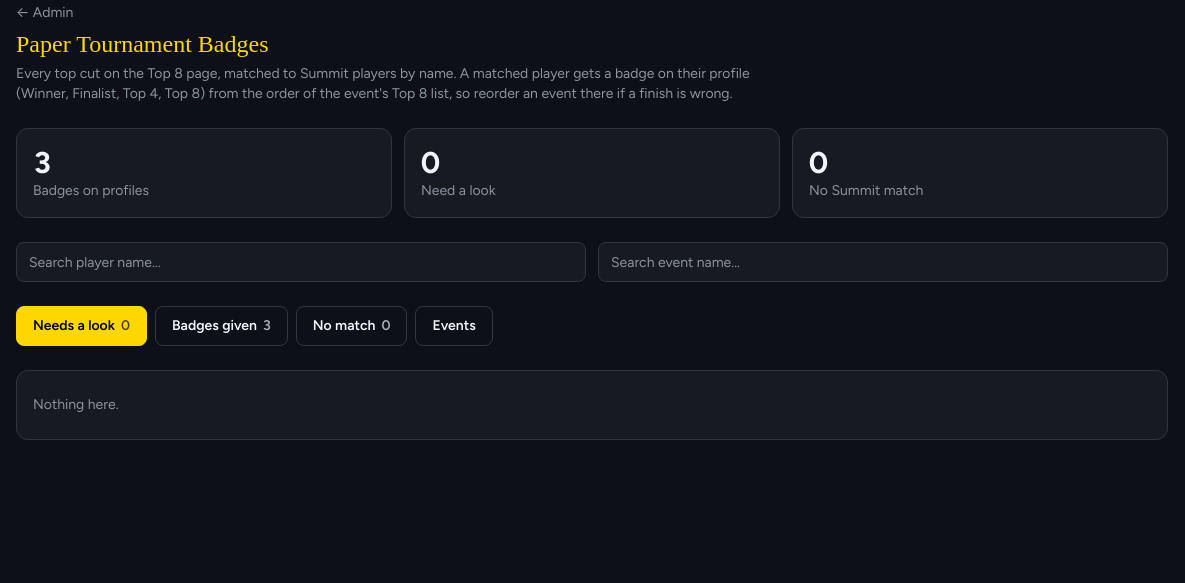
PaperBadges search › filters results by player name and by event name
Click the tab "Badges given3" at [221, 326], box x1=155 y1=306 x2=288 y2=346
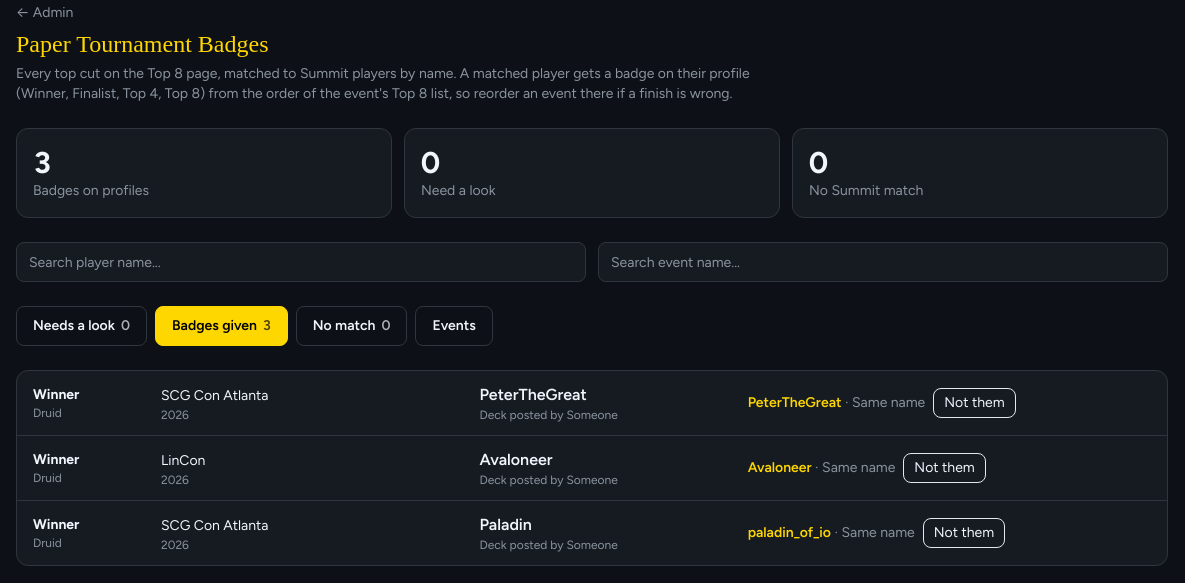
Now the number of links "SCG Con Atlanta" is 2, box x1=161 y1=387 x2=268 y2=404; x1=161 y1=517 x2=268 y2=534
Type "paladin" into the search field labelled "Search player name" at [301, 262], box x1=16 y1=242 x2=586 y2=282
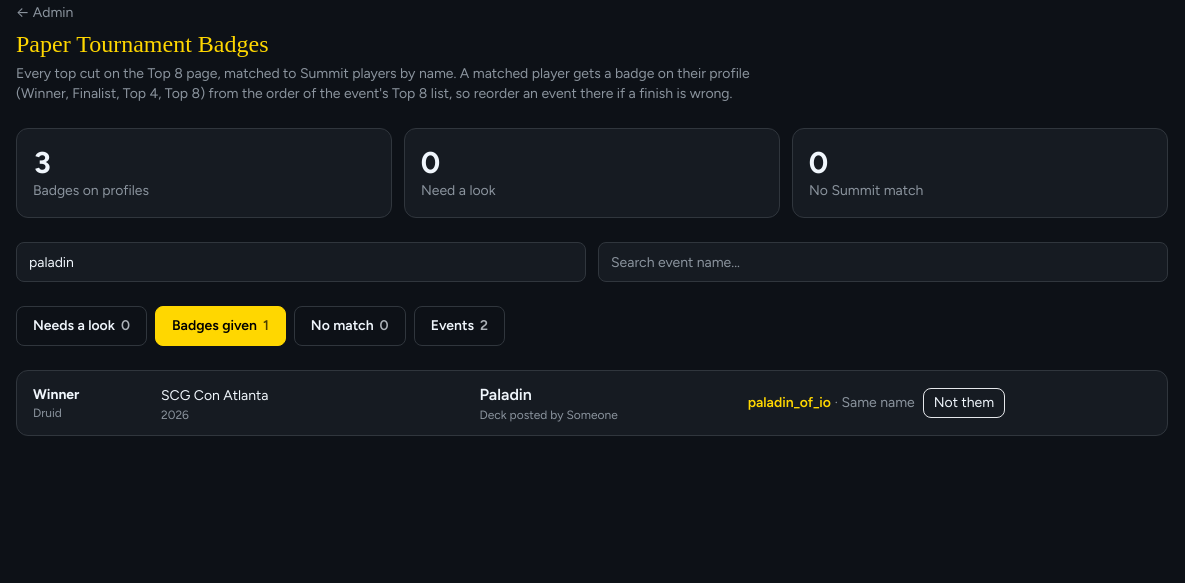
Now the link "paladin_of_io" is shown, box x1=748 y1=394 x2=831 y2=411
Now the text "PeterTheGreat" is gone
Clear the search field named "Search player name" at [301, 262], box x1=16 y1=242 x2=586 y2=282
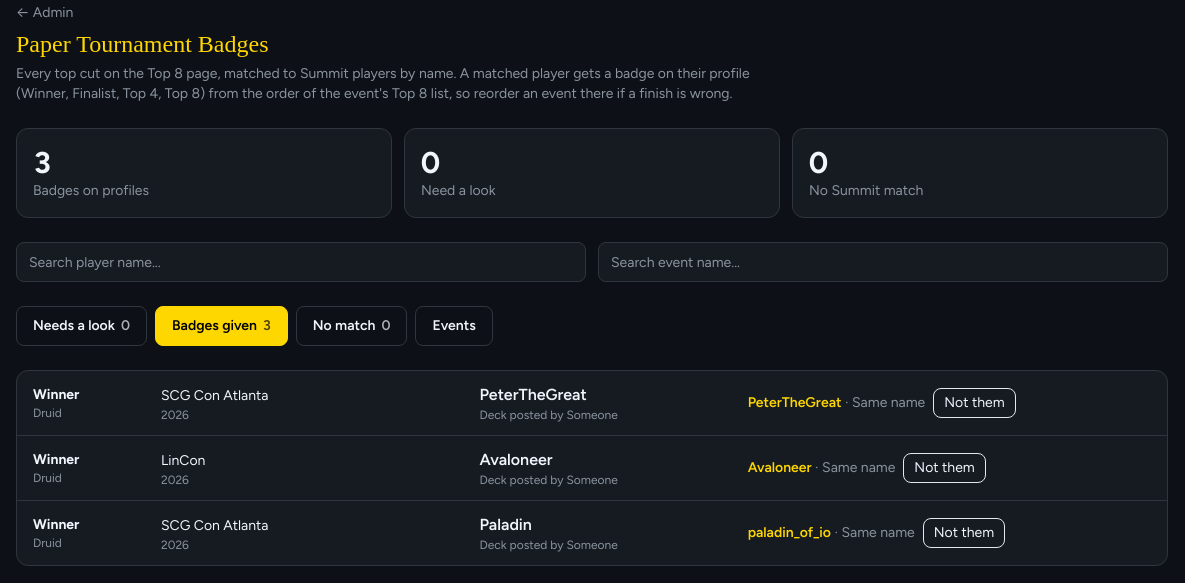
Type "lincon" into the search field labelled "Search event name" at [883, 262], box x1=598 y1=242 x2=1168 y2=282
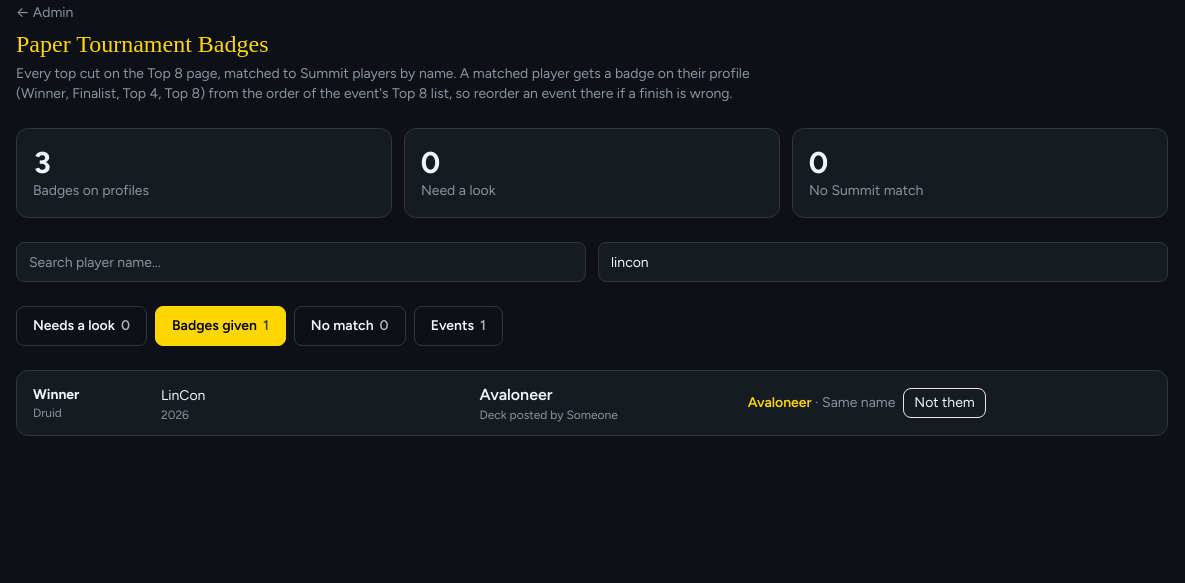
Now the link "Avaloneer" is shown, box x1=748 y1=394 x2=812 y2=411
Now the link "SCG Con Atlanta" is gone
Click the tab "Events1" at [458, 326], box x1=414 y1=306 x2=503 y2=346
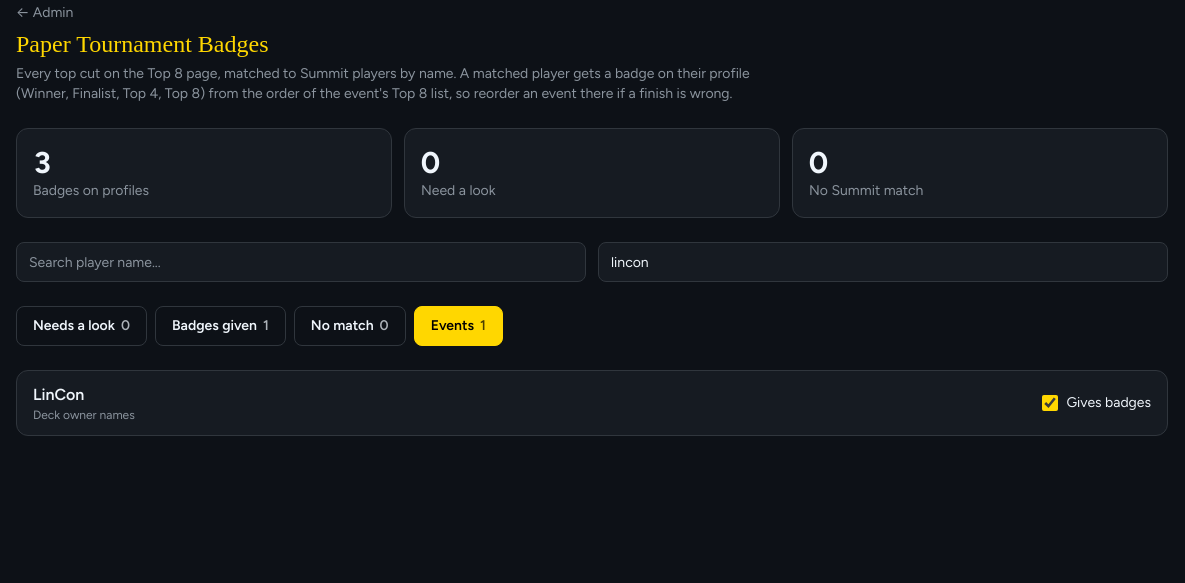
Expected: the link "SCG Con Atlanta" is not shown
Now the link "LinCon" is shown, box x1=33 y1=385 x2=84 y2=404
